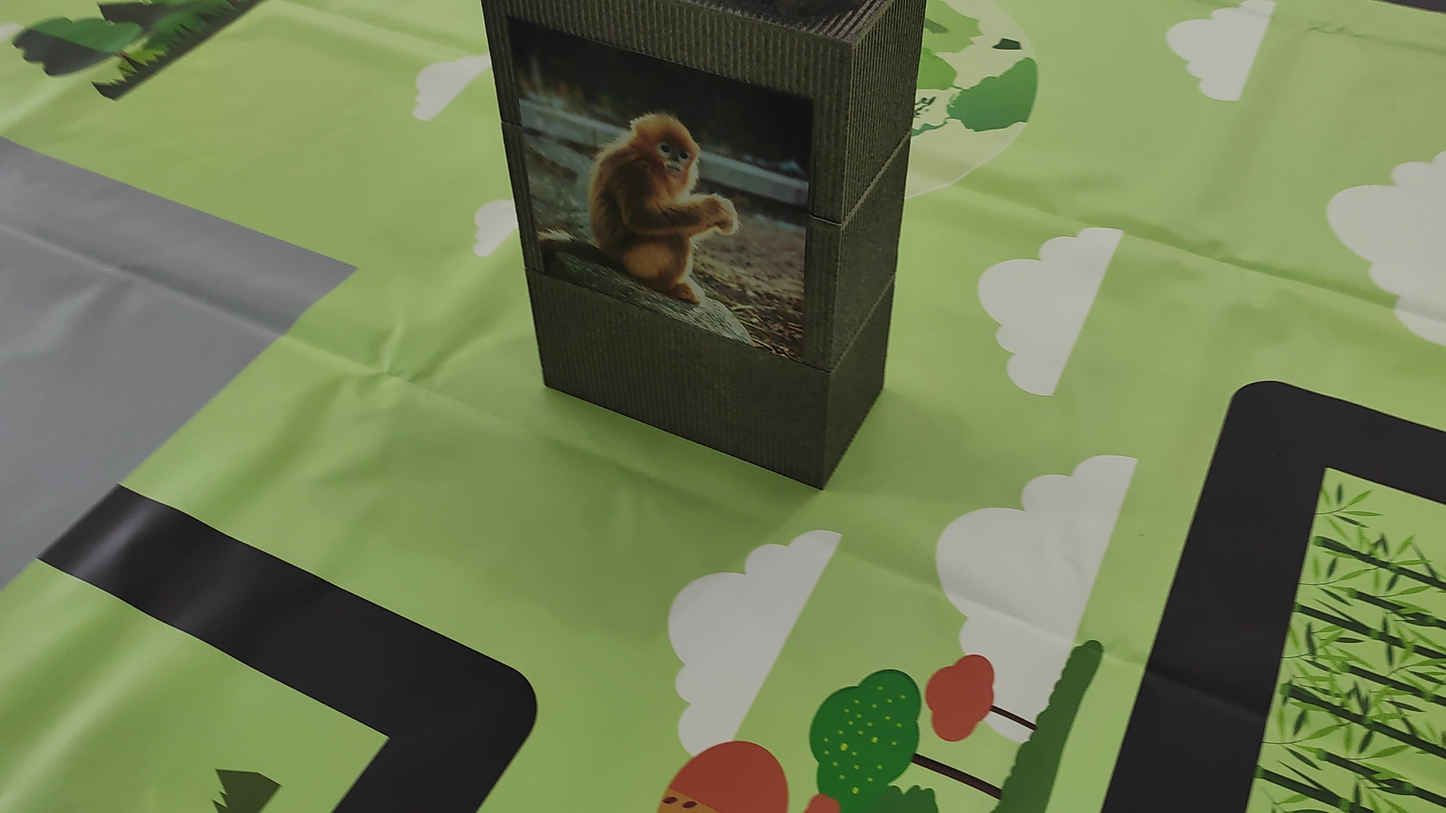monkey: (555, 97, 789, 287)
